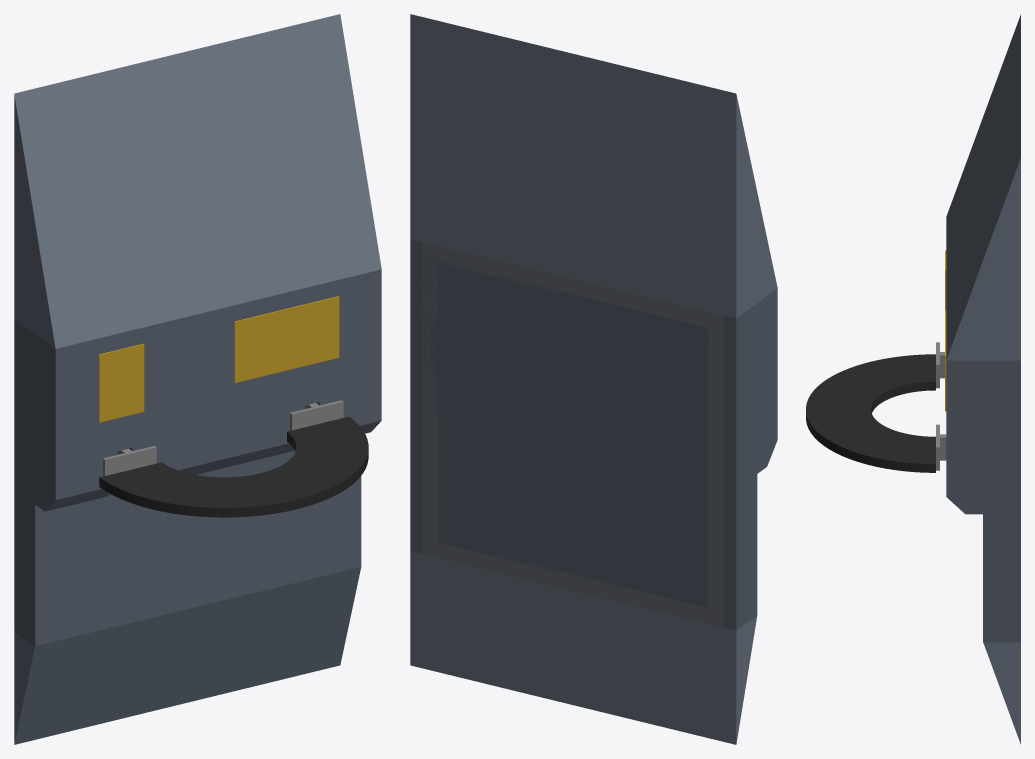
Rendered from PARKFNB_V2S_Shell_closed_arch_raised.obj.
3 renders of one model, left to right at view 1: azimuth 30°, elevation 25°; view 2: azimuth 150°, elevation 25°; view 3: azimuth 270°, elevation 25°, orthographic. The views are drawn at different scales.
Parts seen in each view (by area): view 1: shell_rear_ramp, shell_hump, shell_tray, shell_front_ramp, arch_rubber, service_hatch, arm_cleat, shell_slit_rear; view 2: shell_rear_ramp, shell_hump, shell_tray, shell_front_ramp, frame, shell_slit_floor; view 3: shell_rear_ramp, shell_hump, arch_rubber, shell_tray, shell_front_ramp, arm_cleat.
Boxes of the visible parts, left/top/right/bottom form: shell_rear_ramp: left=14, top=14, right=381, bottom=348; shell_hump: left=14, top=269, right=381, bottom=511; shell_tray: left=14, top=450, right=361, bottom=646; shell_front_ramp: left=14, top=567, right=361, bottom=744; arch_rubber: left=99, top=416, right=368, bottom=517; service_hatch: left=98, top=296, right=339, bottom=422; arm_cleat: left=103, top=400, right=343, bottom=476; shell_slit_rear: left=117, top=284, right=319, bottom=450; shell_rear_ramp: left=410, top=14, right=777, bottom=318; shell_hump: left=410, top=239, right=777, bottom=489; shell_tray: left=410, top=410, right=757, bottom=630; shell_front_ramp: left=410, top=551, right=757, bottom=744; frame: left=422, top=242, right=723, bottom=627; shell_slit_floor: left=472, top=257, right=674, bottom=473; shell_rear_ramp: left=946, top=14, right=1020, bottom=360; shell_hump: left=946, top=360, right=1020, bottom=514; arch_rubber: left=806, top=354, right=935, bottom=472; shell_tray: left=983, top=514, right=1020, bottom=642; shell_front_ramp: left=983, top=642, right=1020, bottom=744; arm_cleat: left=936, top=342, right=939, bottom=470.
Bounding box in the file's own units: 530 × 1012 × 335.
